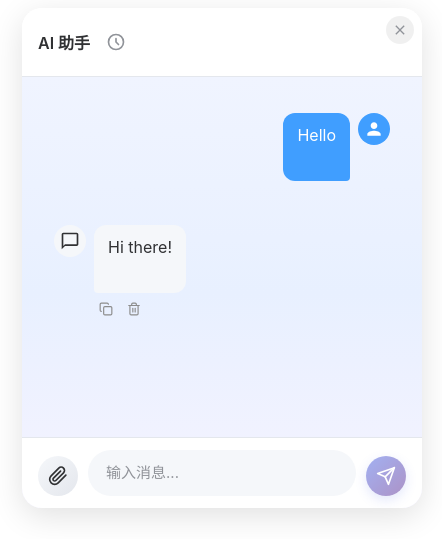
Test: FloatingChatPanel Component › Session List View › should show TopicListView when topics button is clicked
Click the button with class "chat-header__btn": [116, 42] box [98, 24, 134, 60]
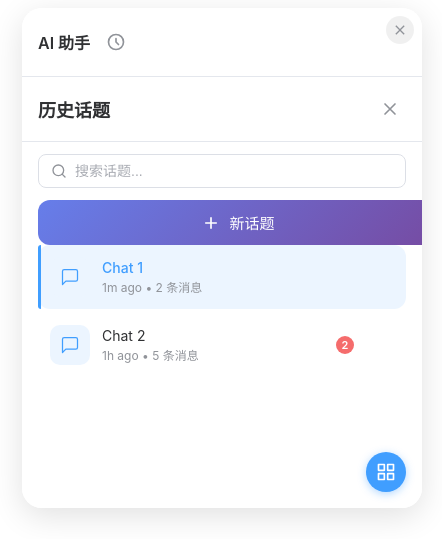
expect the element showing "历史话题 新话题 Chat 1 1m ago • 2 条消息 Chat 2 1h ago • 5 条消息 2" is shown: met
